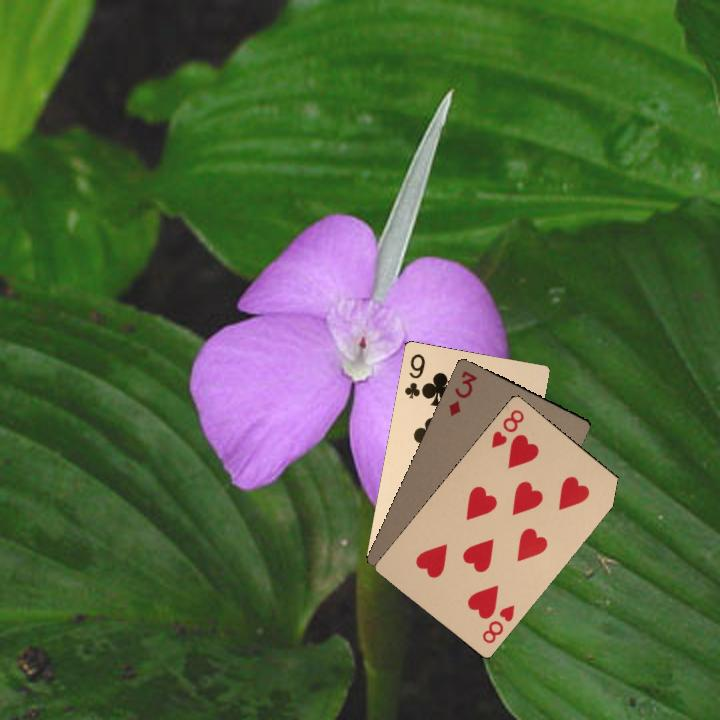3d: (444, 366, 480, 419)
8h: (487, 405, 527, 451), (478, 601, 517, 646)
9c: (401, 350, 428, 401)
